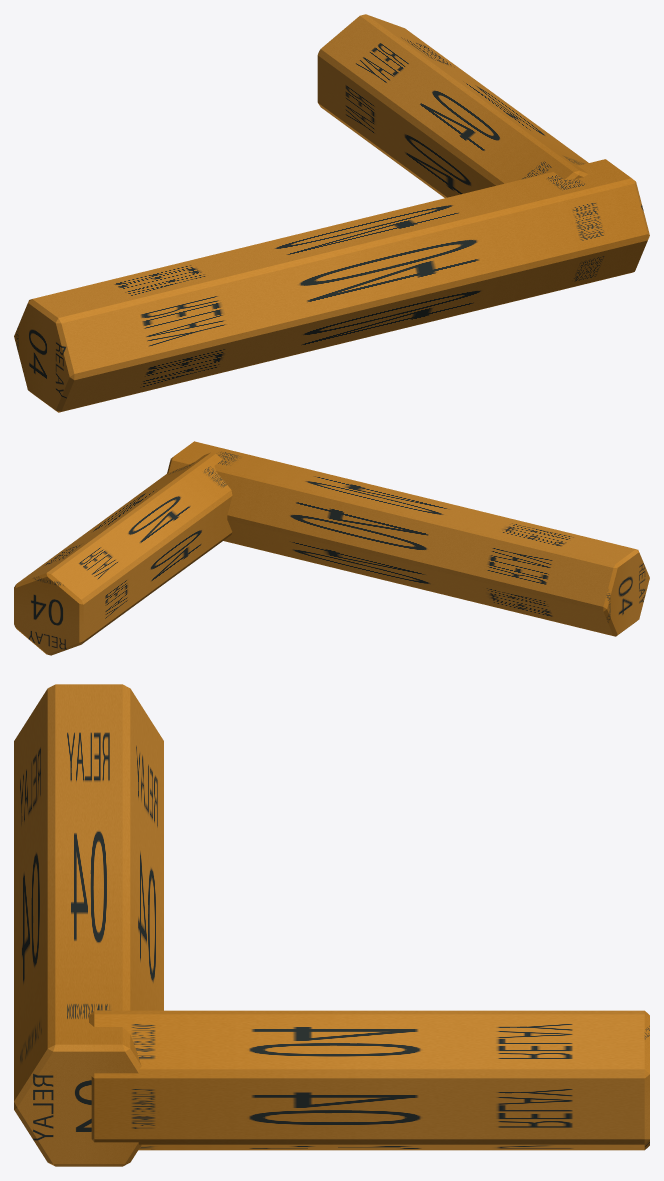
The model's file is pipe_elbow_LOD3.obj.
3 views of the same model, one above another, from view 1: azimuth 30°, elevation 25°; view 2: azimuth 150°, elevation 25°; view 3: azimuth 270°, elevation 25° (orthographic). The views are drawn at different scales.
Visible parts, largest first — view 1: L02_pipe_elbow_LOD3; view 2: L02_pipe_elbow_LOD3; view 3: L02_pipe_elbow_LOD3.
Boxes of the visible parts, <box> form: L02_pipe_elbow_LOD3: <box>14,14,649,412</box>; L02_pipe_elbow_LOD3: <box>14,441,649,655</box>; L02_pipe_elbow_LOD3: <box>14,684,649,1166</box>.
Size of the model in its own units: 2.01 by 0.348 by 1.47.
1 material, 1 textured.
